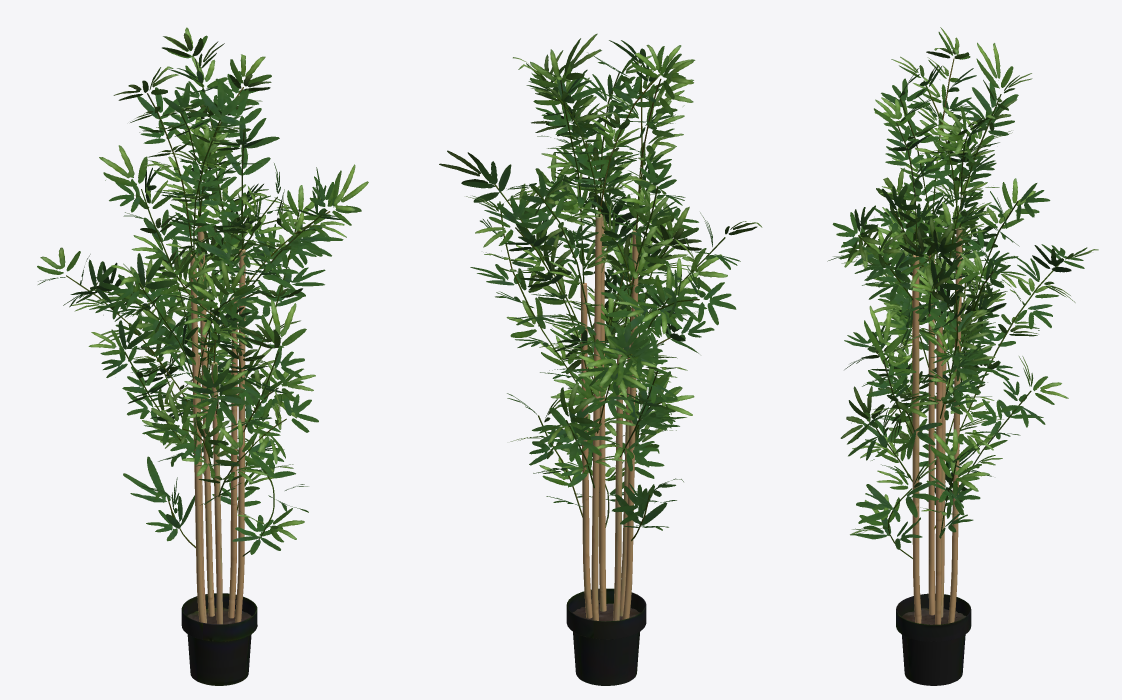
The model's file is fejka_sztuczna_roslina_doniczkowa_40610607.glb.
The picture shows the model from 3 angles, left to right: view 1: azimuth 30°, elevation 25°; view 2: azimuth 150°, elevation 25°; view 3: azimuth 270°, elevation 25°; orthographic projection. The views are drawn at different scales.
Parts seen in each view (by area): view 1: fejka_sztuczna_roslina_doniczkowa_40610607; view 2: fejka_sztuczna_roslina_doniczkowa_40610607; view 3: fejka_sztuczna_roslina_doniczkowa_40610607.
Part boxes in pixels (x1=…): fejka_sztuczna_roslina_doniczkowa_40610607: x1=37, y1=27, x2=368, y2=685; fejka_sztuczna_roslina_doniczkowa_40610607: x1=439, y1=33, x2=762, y2=685; fejka_sztuczna_roslina_doniczkowa_40610607: x1=827, y1=27, x2=1098, y2=685.
Size of the model in its own units: 0.9007 by 1.7 by 0.7252.
2 materials, 2 textured.
